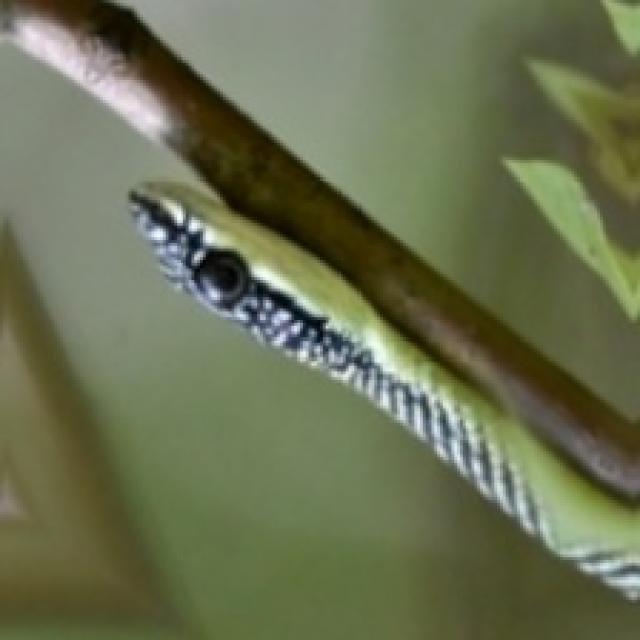paradise tree snake: (129, 180, 637, 597)
